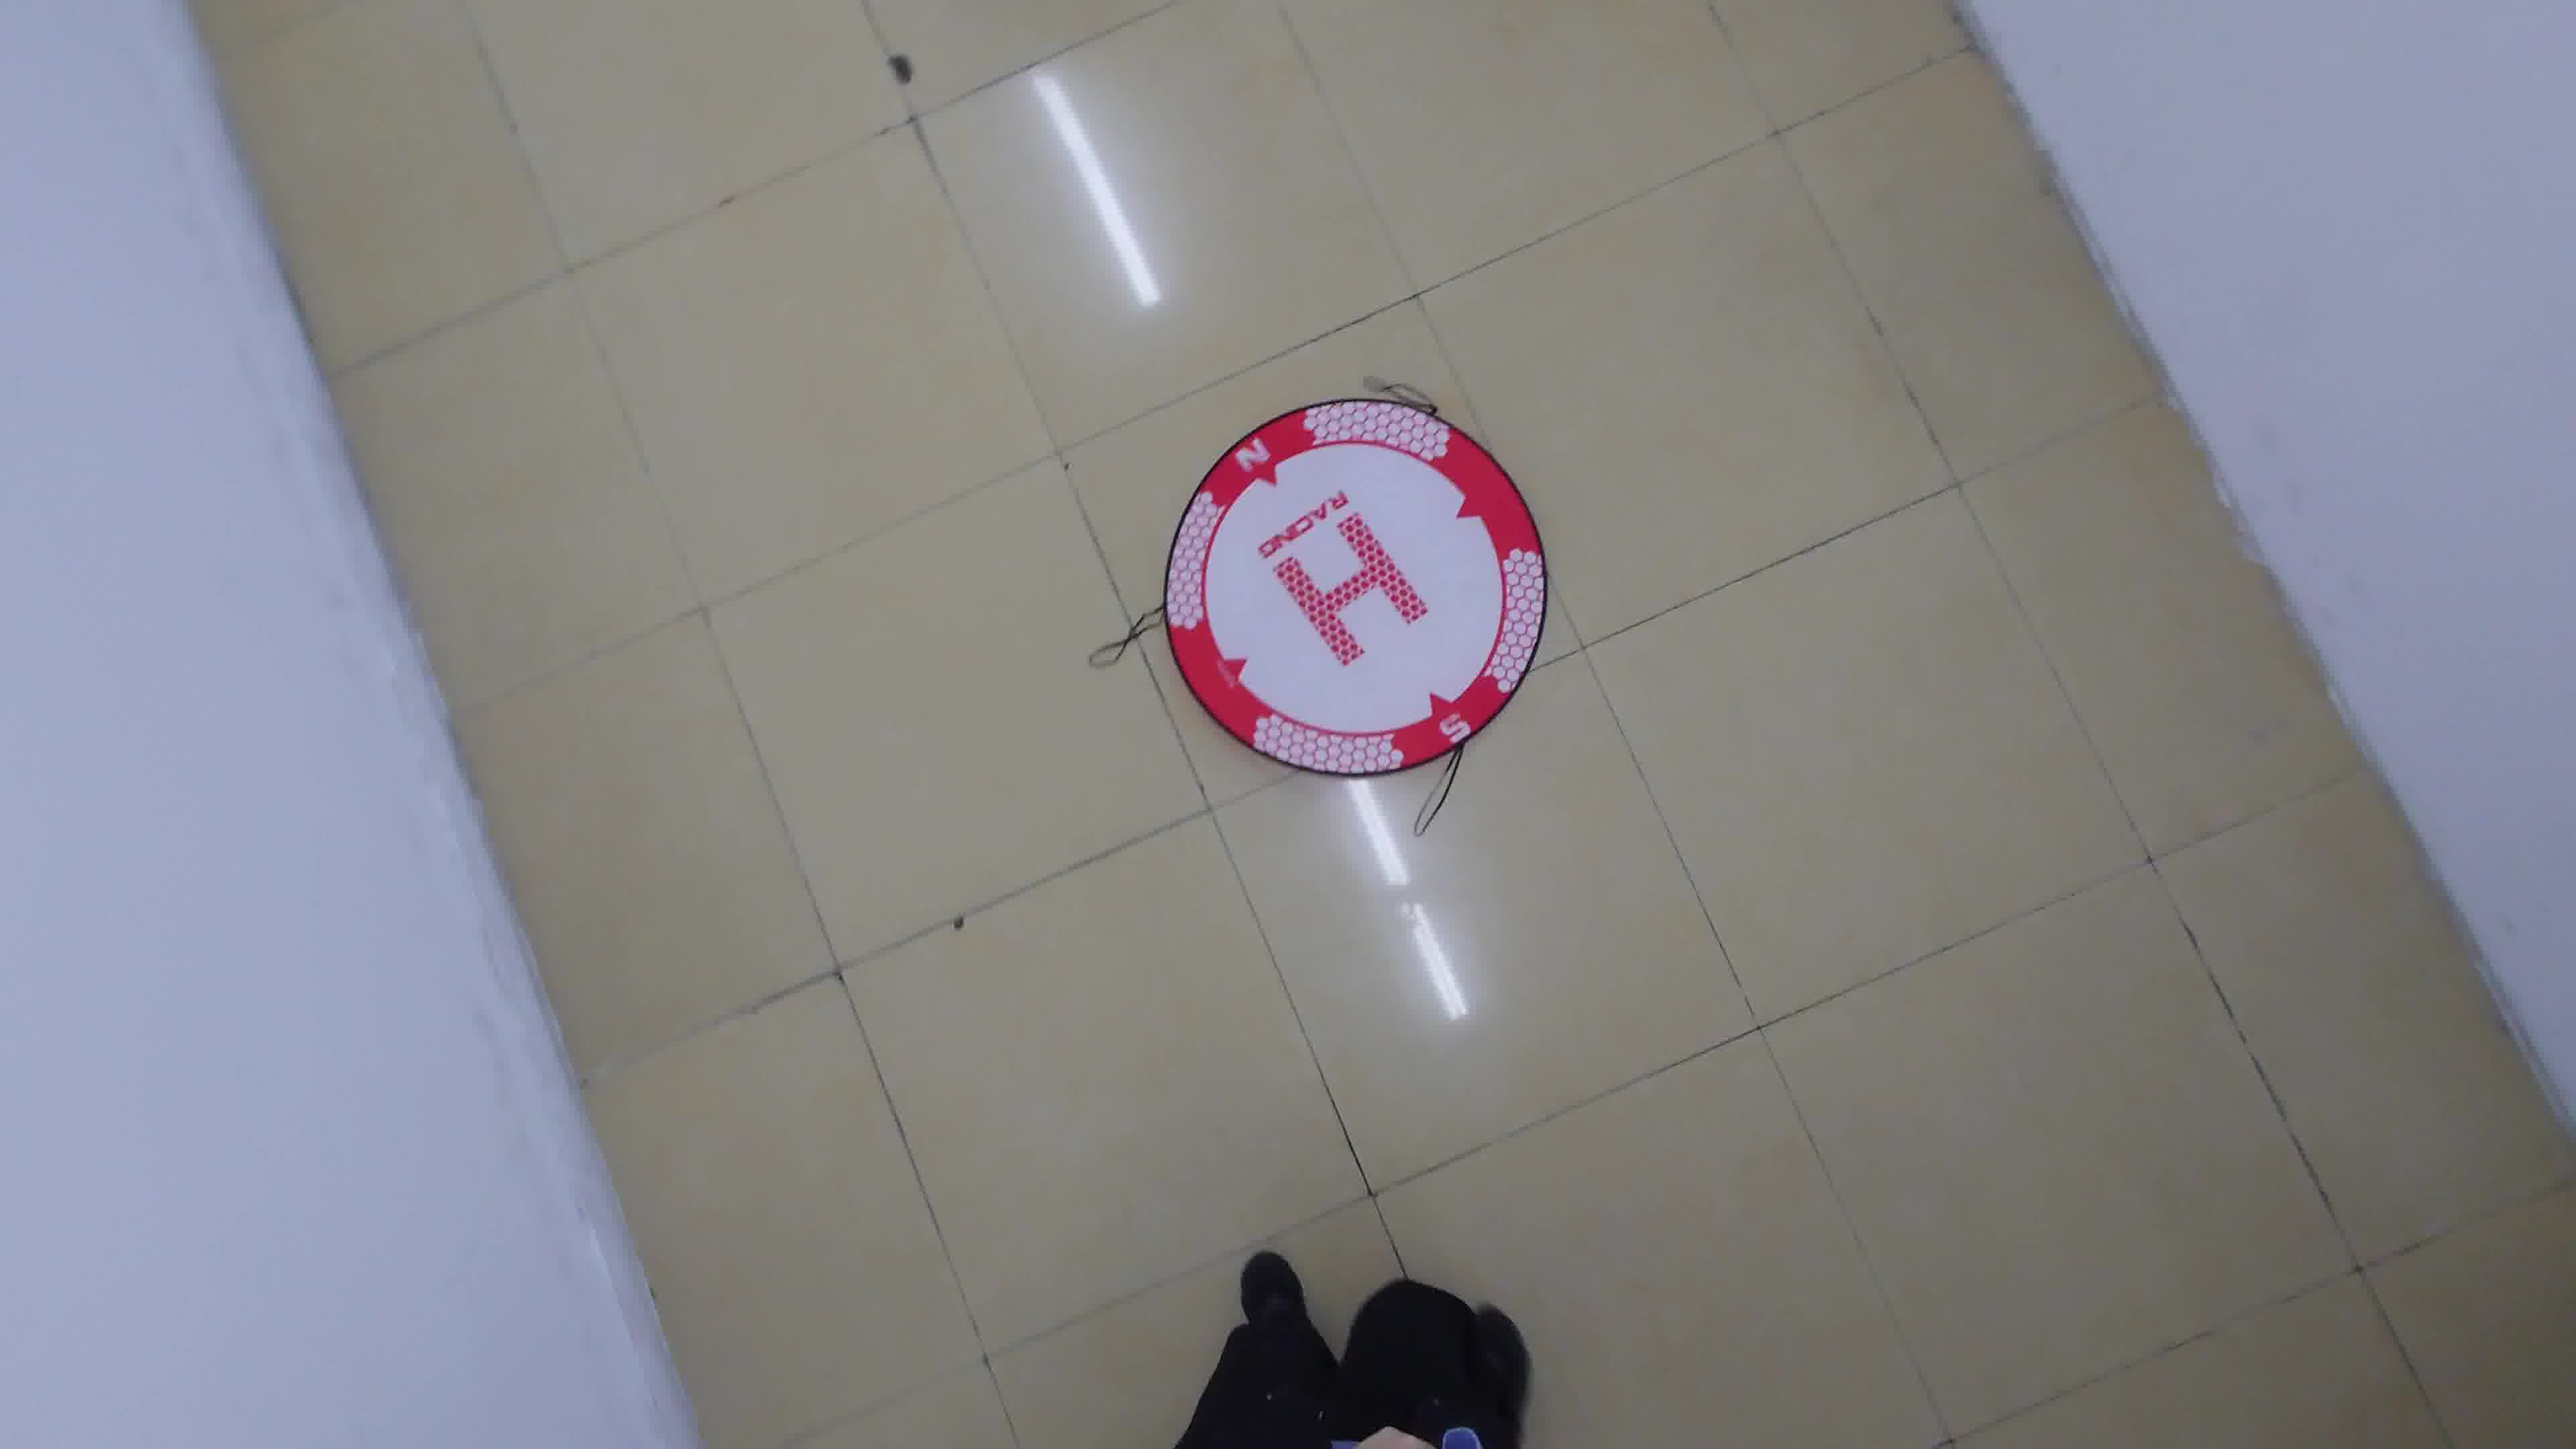H: (1269, 515, 1438, 672)
